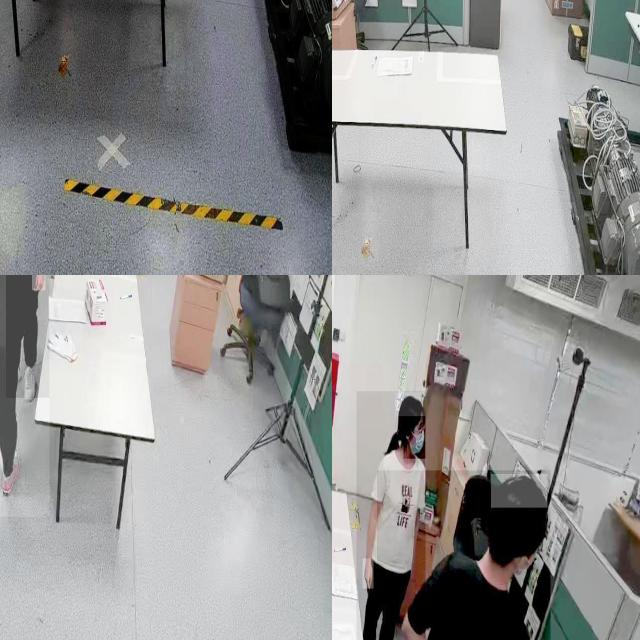face_mask: (404, 416, 426, 459)
hand_noglove: (362, 558, 374, 590), (32, 275, 46, 291)
head_nohelmet: (491, 474, 548, 508), (395, 392, 426, 417)
person: (377, 470, 551, 640), (356, 391, 425, 640), (0, 275, 49, 518), (6, 275, 50, 397)
shoes: (0, 434, 24, 501)
